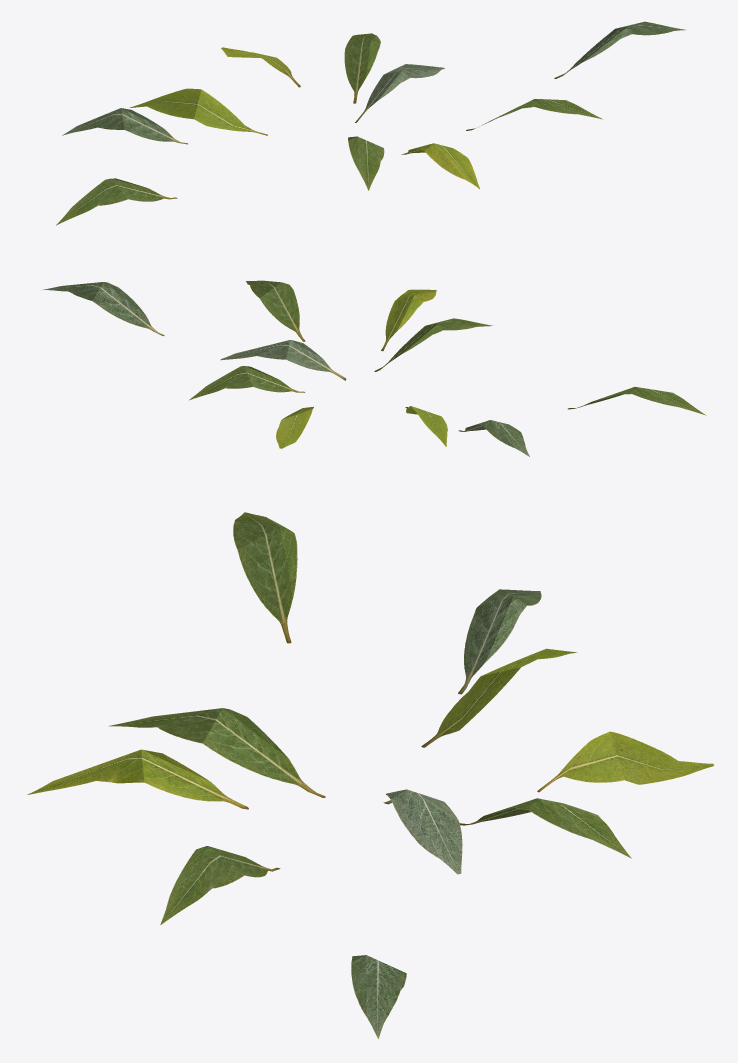
The model's file is groundcover_01.glb.
3 renders of one model, top to bottom at view 1: azimuth 30°, elevation 25°; view 2: azimuth 150°, elevation 25°; view 3: azimuth 270°, elevation 25°, orthographic. The views are drawn at different scales.
Visible parts, largest first — view 1: groundcover_01; view 2: groundcover_01; view 3: groundcover_01.
Part boxes in pixels (x1,y1,x2,y2): groundcover_01: [56, 21, 685, 225]; groundcover_01: [42, 280, 706, 456]; groundcover_01: [27, 512, 714, 1038].
Size of the model in its own units: 1.59 by 0.0853 by 0.8774.
1 material, 1 textured.
